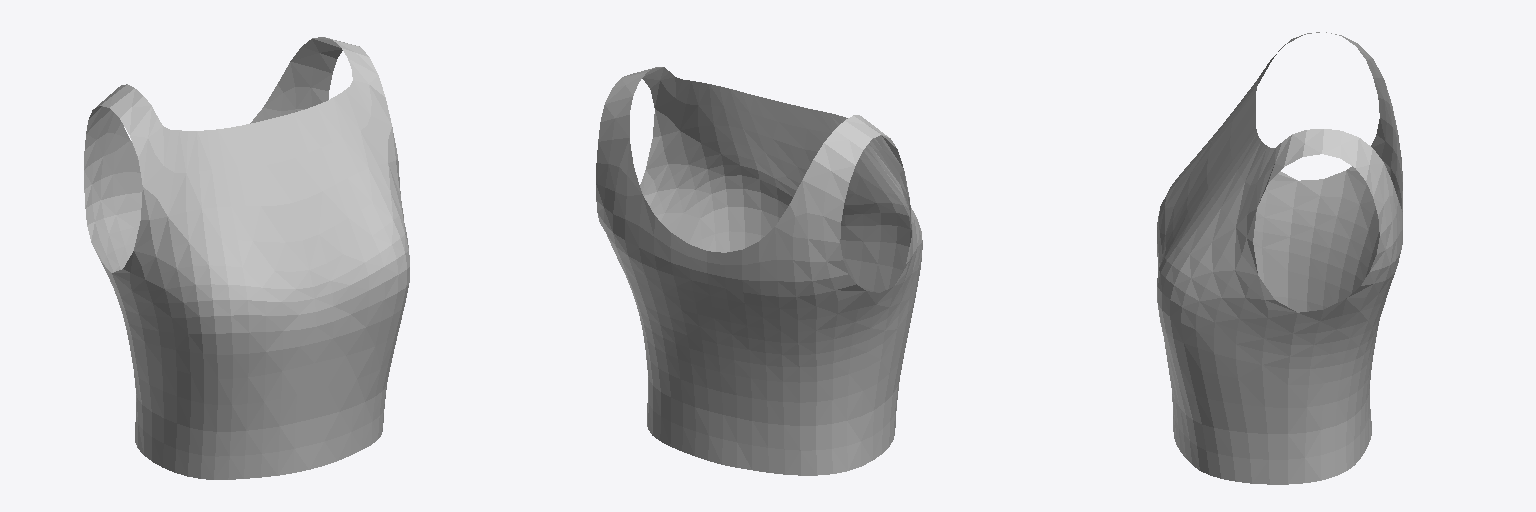
The model's file is 4_bodiceboat.obj.
3 renders of one model, left to right at view 1: azimuth 30°, elevation 25°; view 2: azimuth 150°, elevation 25°; view 3: azimuth 270°, elevation 25°, orthographic.
Parts seen in each view (by area): view 1: bodicefrontleft, bodicefrontright, bodicebackleft, object_7, bodicebackright, bodiceback; view 2: bodiceback, bodicebackleft, bodicefrontleft, object_7, bodicefrontright, bodicebackright; view 3: object_7, bodicebackright, bodicebackleft, bodicefrontleft, bodicefrontright, bodiceback.
Boxes of the visible parts, <box> form: bodicefrontleft: <box>110,89,316,479</box>; bodicefrontright: <box>268,98,406,469</box>; bodicebackleft: <box>84,84,143,454</box>; object_7: <box>333,40,409,438</box>; bodicebackright: <box>263,37,359,119</box>; bodiceback: <box>127,108,263,237</box>; bodiceback: <box>639,194,784,474</box>; bodicebackleft: <box>775,121,893,475</box>; bodicefrontleft: <box>781,102,922,460</box>; object_7: <box>624,67,729,252</box>; bodicefrontright: <box>709,84,810,251</box>; bodicebackright: <box>596,72,670,445</box>; object_7: <box>1170,129,1323,484</box>; bodicebackright: <box>1288,129,1399,484</box>; bodicebackleft: <box>1288,32,1399,312</box>; bodicefrontleft: <box>1157,32,1319,306</box>; bodicefrontright: <box>1157,111,1260,470</box>; bodiceback: <box>1360,135,1402,458</box>.
Size of the model in its own units: 11.94 by 14.82 by 9.44.